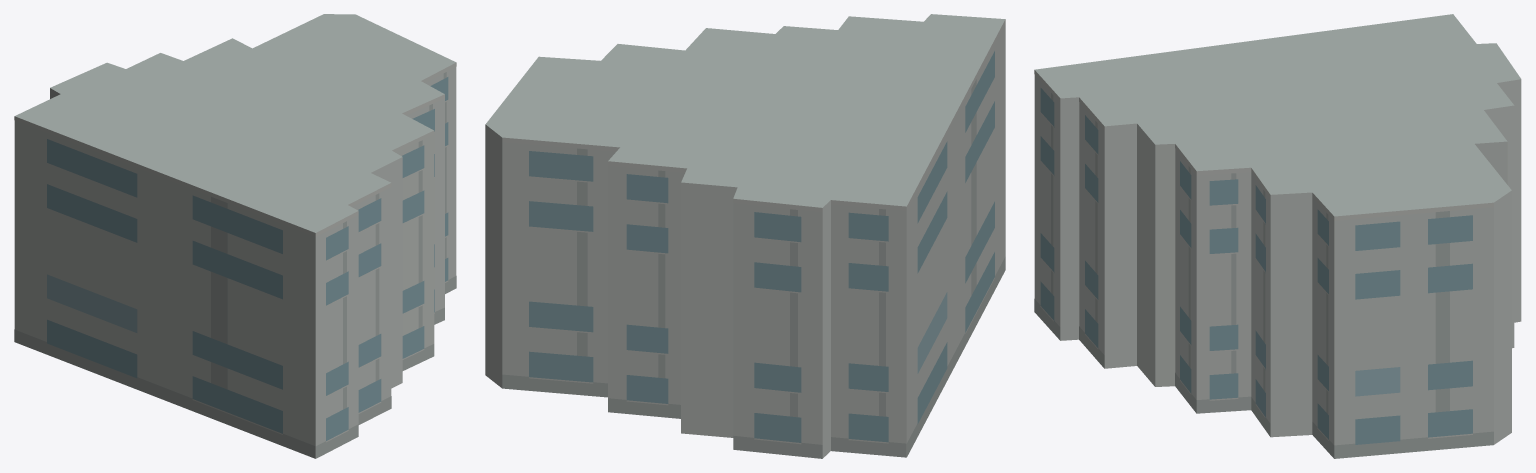
File: survey-upis-32758669.glb
3 renders of one model, left to right at view 1: azimuth 30°, elevation 25°; view 2: azimuth 150°, elevation 25°; view 3: azimuth 270°, elevation 25°, orthographic. The views are drawn at different scales.
Visible parts, largest first — view 1: survey-upis-32758669.tmp; view 2: survey-upis-32758669.tmp; view 3: survey-upis-32758669.tmp.
Boxes of the visible parts, x1,y1,x2,y2 form: survey-upis-32758669.tmp: [14, 14, 456, 458]; survey-upis-32758669.tmp: [485, 14, 1005, 458]; survey-upis-32758669.tmp: [1034, 14, 1521, 458].
Bounding box in the file's own units: 23.47 × 13.1 × 23.86.
